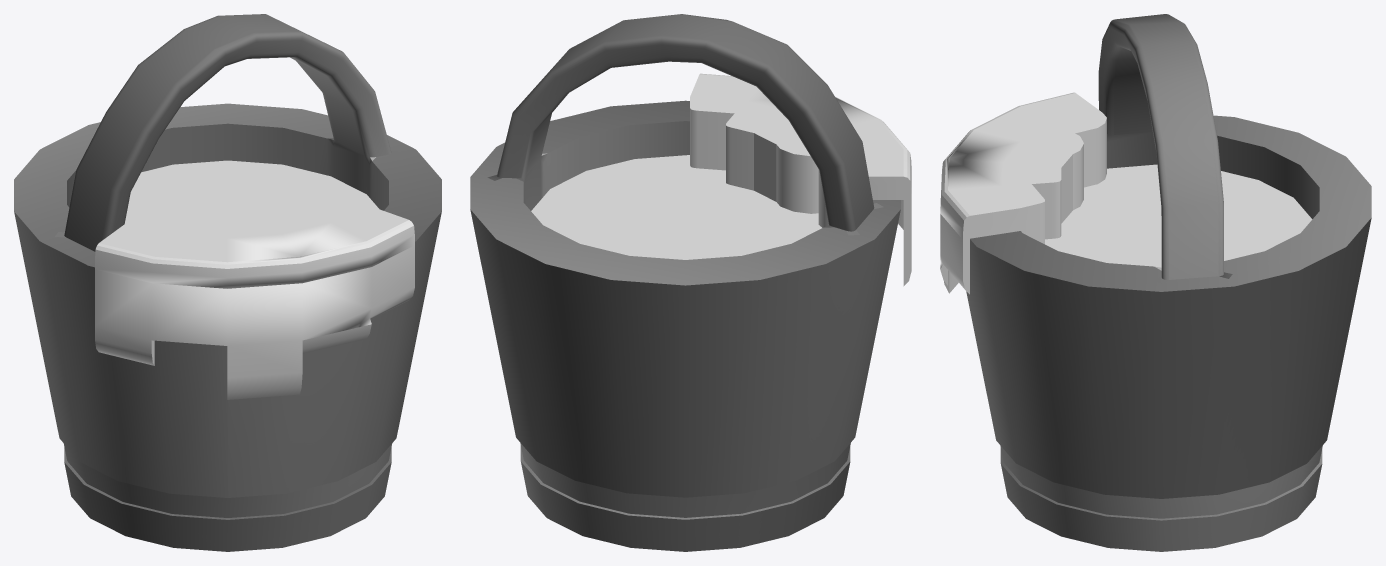
The model's file is Cubo_pintura.fbx.
3 renders of one model, left to right at view 1: azimuth 30°, elevation 25°; view 2: azimuth 150°, elevation 25°; view 3: azimuth 270°, elevation 25°, orthographic. The views are drawn at different scales.
Parts seen in each view (by area): view 1: CuboPintura, pintura; view 2: CuboPintura, pintura; view 3: CuboPintura, pintura.
Boxes of the visible parts, box(x1,y1,x2,y2) form: CuboPintura: box(14, 14, 441, 551); pintura: box(95, 160, 414, 399); CuboPintura: box(470, 14, 900, 551); pintura: box(531, 73, 911, 286); CuboPintura: box(966, 14, 1371, 551); pintura: box(940, 92, 1312, 294).
Size of the model in its own units: 6.88 by 7.97 by 6.95.
